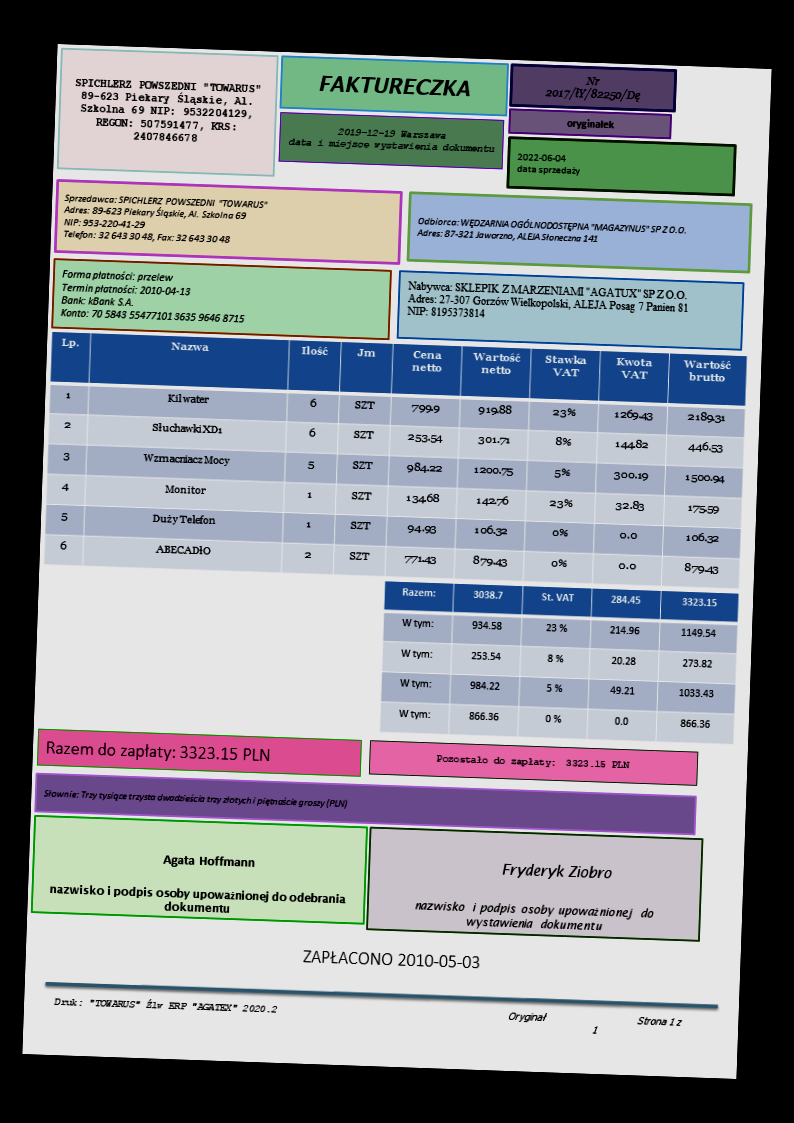Table: (43, 331, 746, 589), (378, 579, 740, 745)
TextBox: (406, 278, 692, 327), (71, 76, 262, 146), (61, 192, 271, 248), (48, 880, 347, 919), (58, 266, 248, 326), (414, 213, 689, 248), (413, 898, 655, 935), (41, 786, 349, 812), (285, 122, 497, 155), (44, 739, 271, 766), (507, 1011, 685, 1038), (301, 947, 482, 971), (53, 996, 278, 1015), (435, 752, 631, 773), (318, 73, 472, 99), (544, 73, 644, 104), (499, 859, 614, 884), (515, 151, 582, 178), (161, 853, 256, 871), (565, 116, 616, 133)
